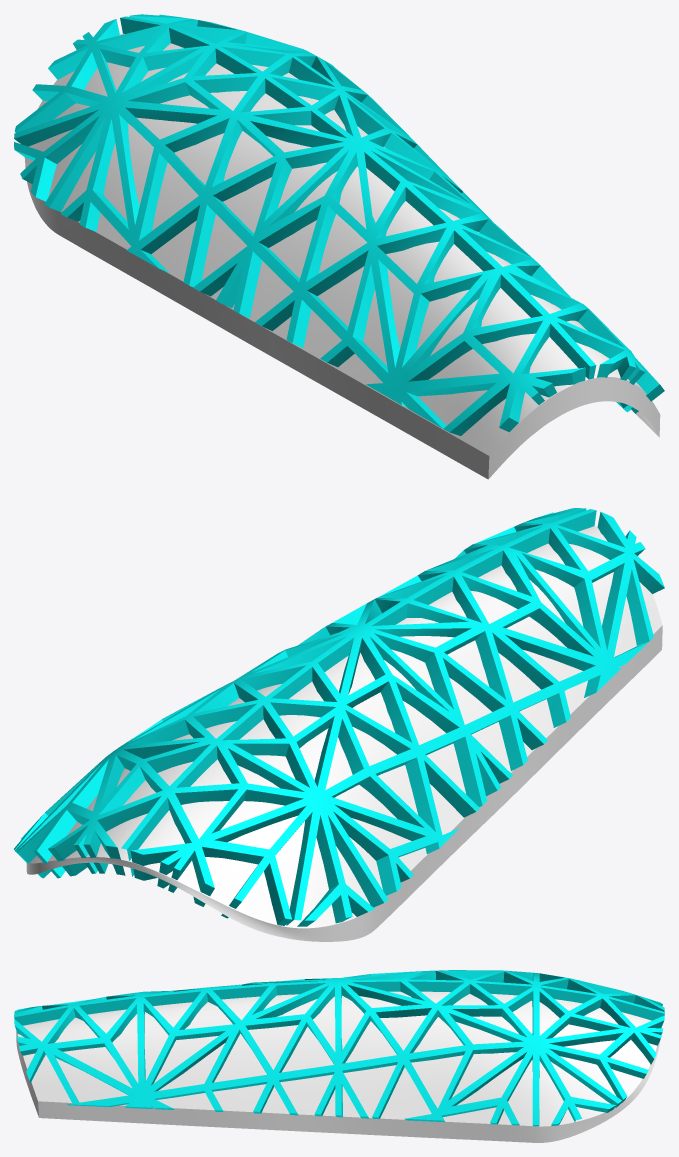
The model's file is kaleidoscope-coffin-web.glb.
The picture shows the model from 3 angles, top to bottom: view 1: azimuth 30°, elevation 25°; view 2: azimuth 150°, elevation 25°; view 3: azimuth 270°, elevation 25°; orthographic projection. The views are drawn at different scales.
Visible parts, largest first — view 1: MW 1.0 1868058 US, object 1; view 2: MW 1.0 1868058 US, object 1; view 3: MW 1.0 1868058 US, object 1.
Boxes of the visible parts, x1,y1,x2,y2 form: MW 1.0 1868058 US: (14,14,664,435); object 1: (24,33,660,479); MW 1.0 1868058 US: (14,508,664,926); object 1: (26,526,662,941); MW 1.0 1868058 US: (14,970,664,1126); object 1: (16,991,660,1142).
Size of the model in its own units: 0.0147 by 0.00656 by 0.0353.
